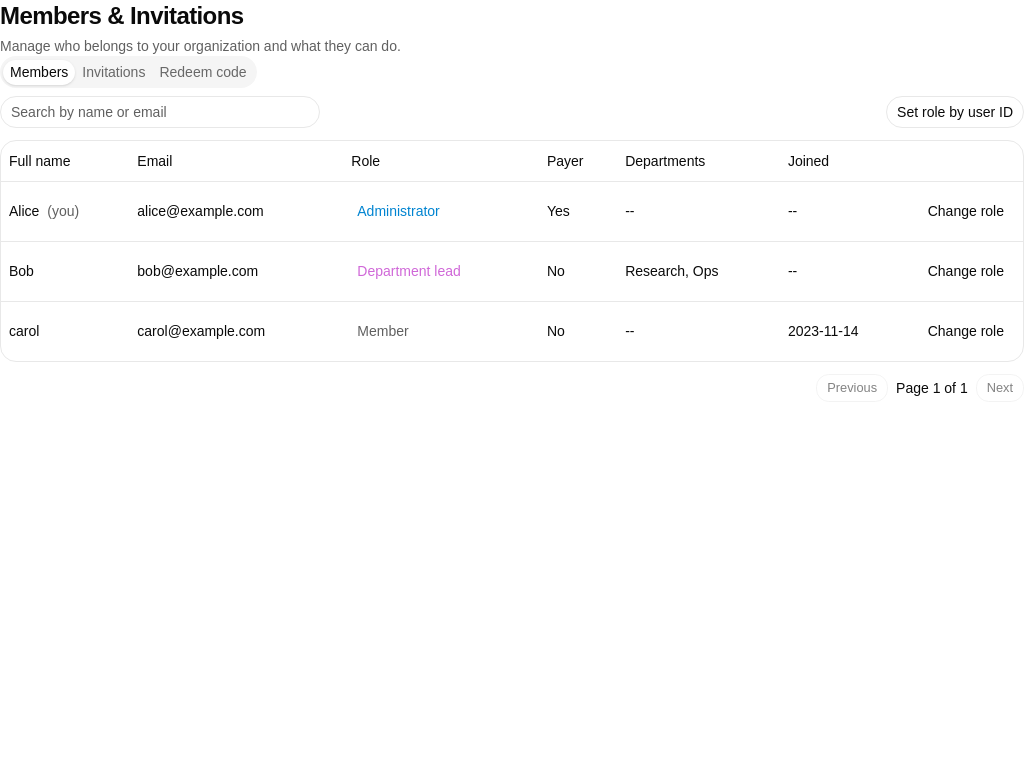
Scenario: OrgMembersPage › lists members for a tenant admin and shows the last-admin error
This screenshot has width=1024, height=768.
Expected: the text "Bob" is shown, [1,241,129,301]
Expected: the text "Alice" is shown, [9,203,39,219]
Click the button "Change role" in the row of "(you)" at (966, 211), box [917,197,1015,225]
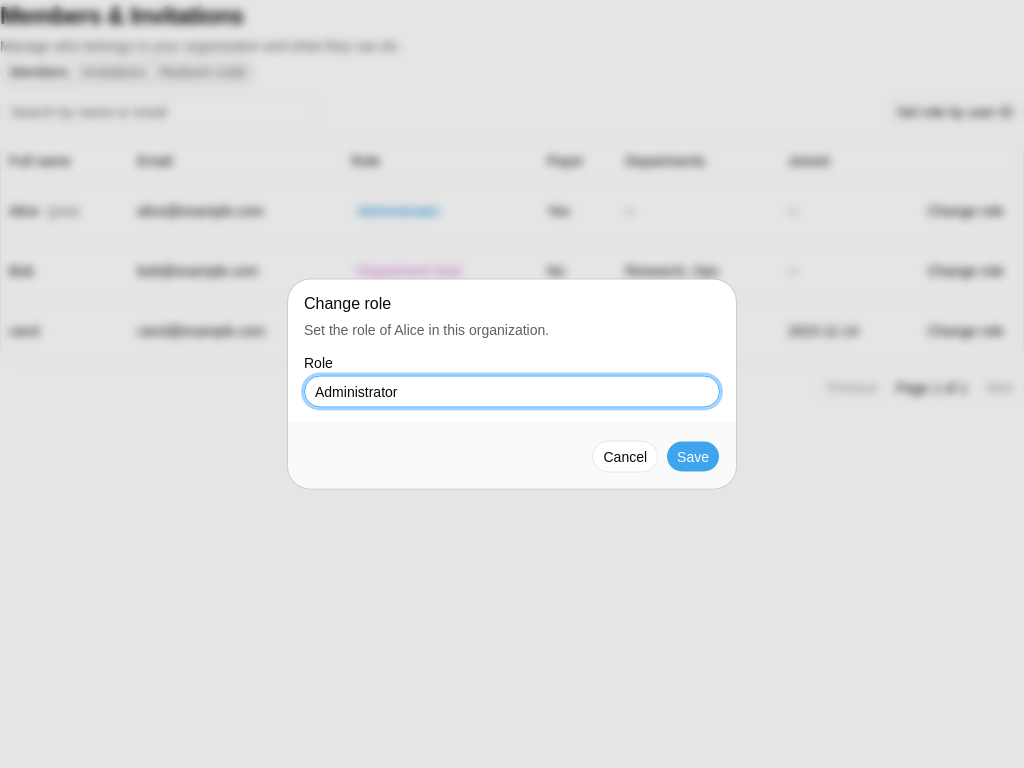
Click the button "Save" at (693, 456), box [666,440,720,472]
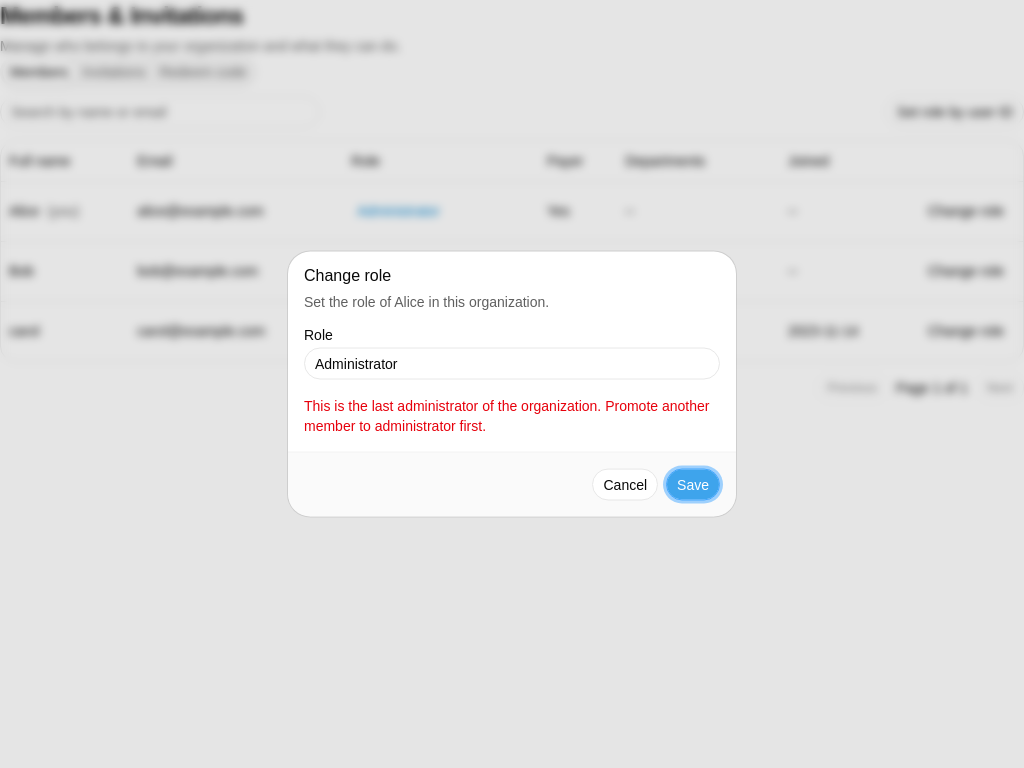
Expected: the text "last administrator of the organization" is shown, [304,398,709,434]
